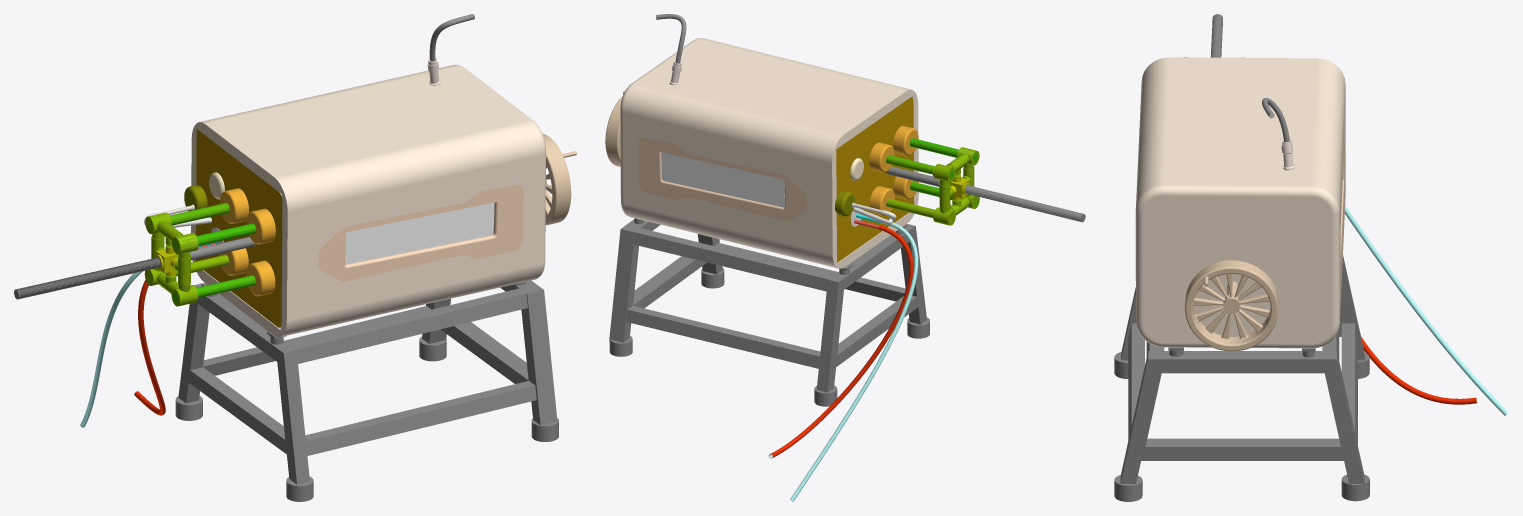
Rendered from Team_Nirmaan.glb.
The picture shows the model from 3 angles, left to right: view 1: azimuth 30°, elevation 25°; view 2: azimuth 150°, elevation 25°; view 3: azimuth 270°, elevation 25°; orthographic projection. The views are drawn at different scales.
Visible parts, largest first — view 1: coveraakrutii-1, ro stand 1-1, Copy of Part24-2, plateaakruti-1, Part25^final_hydraulicRo-1, bolt-1, Part33^final_hydraulicRo-1, Copy of Part6-1, cylinder cap-10, pistoncom aakruti-14, pistoncom aakruti-12, pistoncom aakruti-11 (+2 smaller); view 2: coveraakrutii-1, ro stand 1-1, plateaakruti-1, Copy of Part24-1, Part25^final_hydraulicRo-2, Part33^final_hydraulicRo-1, bolt-1, Copy of Part6-1, cylinder cap-10; view 3: coveraakrutii-1, ro stand 1-1, Copy of Part6-1, Part33^final_hydraulicRo-1, bolt-1.
Part boxes in pixels (x1,y1,x2,y2): coveraakrutii-1: (191,64,545,337); ro stand 1-1: (175,280,558,501); Copy of Part24-2: (318,185,523,281); plateaakruti-1: (195,129,282,327); Part25^final_hydraulicRo-1: (345,202,494,264); bolt-1: (14,237,256,299); Part33^final_hydraulicRo-1: (80,271,165,427); Copy of Part6-1: (542,134,576,225); cylinder cap-10: (220,188,249,223); pistoncom aakruti-14: (173,275,255,302); pistoncom aakruti-12: (147,203,229,230); pistoncom aakruti-11: (147,203,229,229); coveraakrutii-1: (620,38,918,268); ro stand 1-1: (609,217,929,406); plateaakruti-1: (836,97,914,262); Copy of Part24-1: (638,137,806,221); Part25^final_hydraulicRo-2: (661,152,784,207); Part33^final_hydraulicRo-1: (768,222,918,501); bolt-1: (886,166,1085,222); Copy of Part6-1: (605,91,624,166); cylinder cap-10: (869,142,894,172); coveraakrutii-1: (1135,57,1345,348); ro stand 1-1: (1114,255,1369,501); Copy of Part6-1: (1185,260,1278,351); Part33^final_hydraulicRo-1: (1344,206,1508,415); bolt-1: (1211,14,1222,57).
Size of the model in its own units: 2.57 by 1.92 by 1.55.
